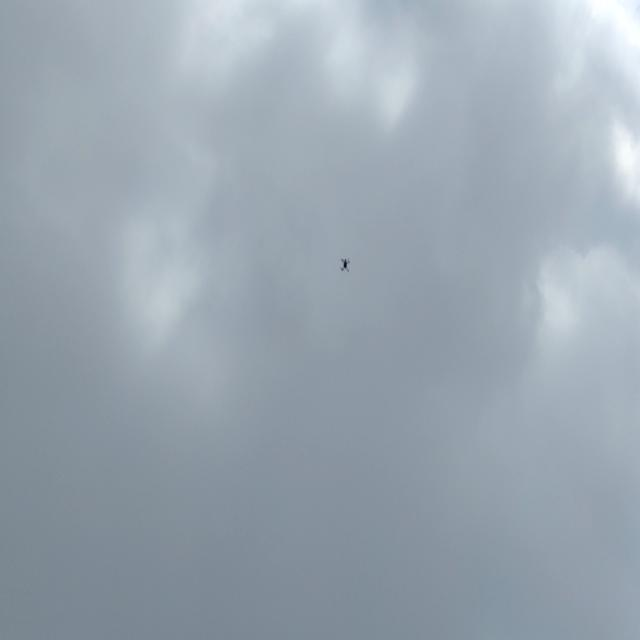drone: (335, 252, 356, 276)
